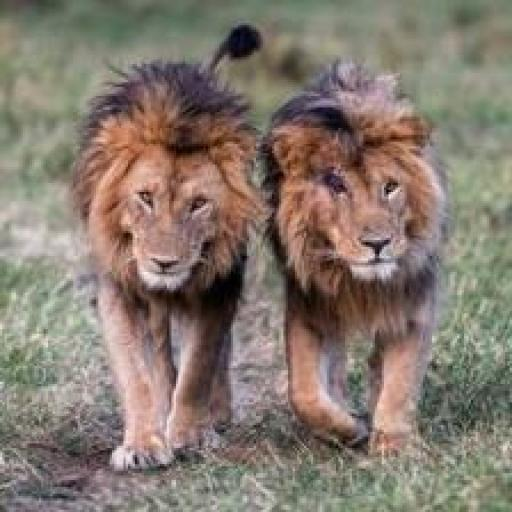lion: (268, 116, 452, 300), (89, 112, 252, 298)
